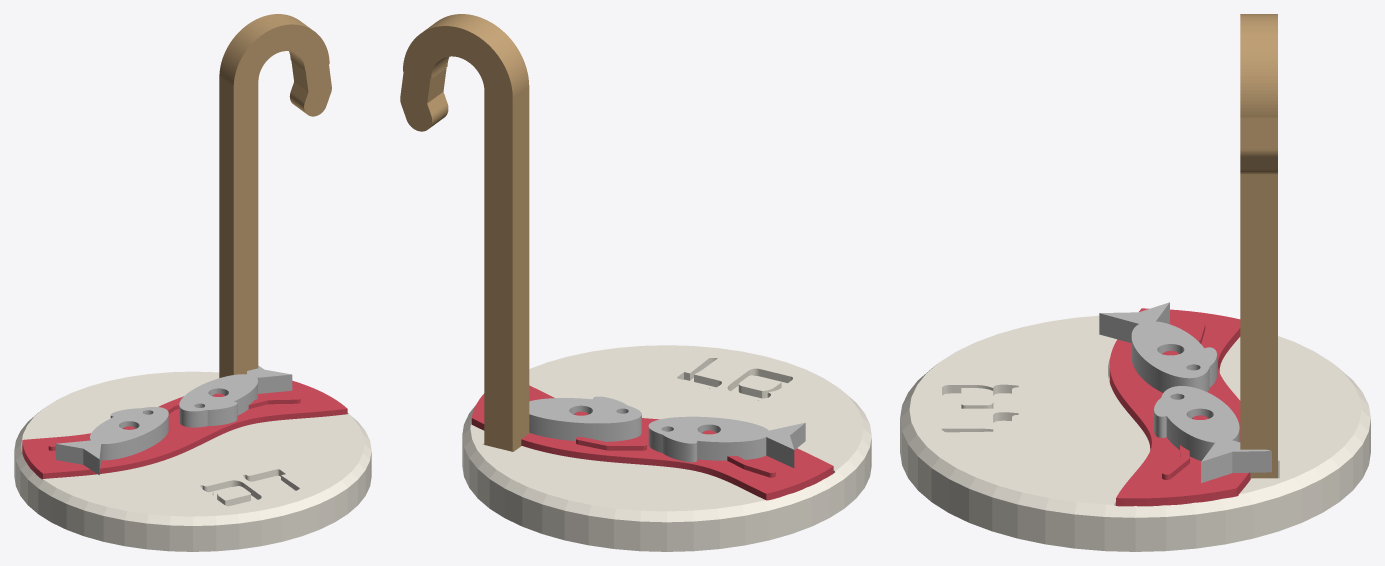
The model's file is blood.glb.
3 views of the same model, side by side, from view 1: azimuth 30°, elevation 25°; view 2: azimuth 150°, elevation 25°; view 3: azimuth 270°, elevation 25° (orthographic). The views are drawn at different scales.
Parts seen in each view (by area): view 1: stage, staff, river, fish-1, fish-2; view 2: stage, staff, river, fish-1, fish-2; view 3: stage, staff, river, fish-2, fish-1.
Boxes of the visible parts, x1,y1,x2,y2 form: stage: [14, 371, 371, 551]; staff: [219, 14, 331, 377]; river: [22, 380, 347, 479]; fish-1: [55, 407, 168, 475]; fish-2: [179, 365, 292, 427]; stage: [462, 345, 871, 551]; staff: [400, 14, 529, 451]; river: [471, 385, 833, 500]; fish-1: [648, 416, 805, 467]; fish-2: [529, 396, 641, 441]; stage: [900, 315, 1370, 551]; staff: [1240, 14, 1277, 479]; river: [1109, 308, 1250, 506]; fish-2: [1154, 386, 1271, 482]; fish-1: [1099, 302, 1216, 392].
Size of the model in its own units: 43.1 by 48.2 by 40.
